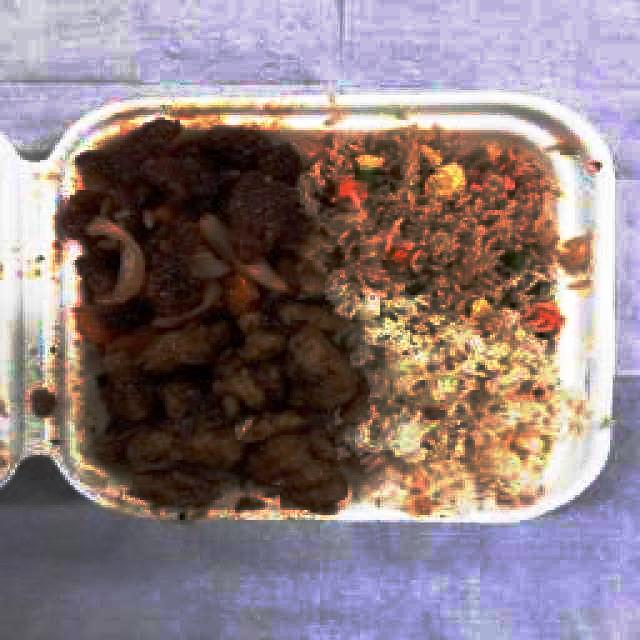Beijing Beef: (74, 122, 306, 310)
Fried Rice: (320, 153, 527, 299)
Kung Pao Chicken: (106, 296, 332, 488)
rice: (363, 316, 542, 475)
